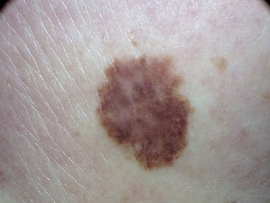Melanoma: (96, 56, 191, 172)
